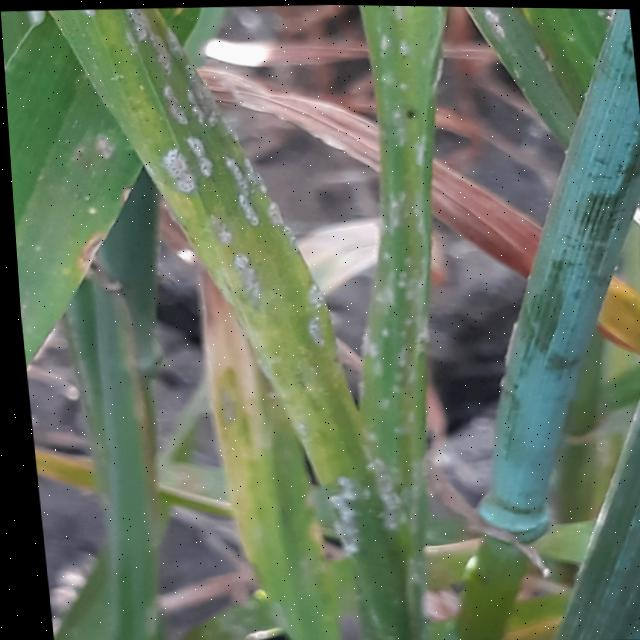powder_mildew: (48, 1, 425, 640), (313, 4, 506, 640), (4, 67, 102, 378), (457, 5, 639, 126)
